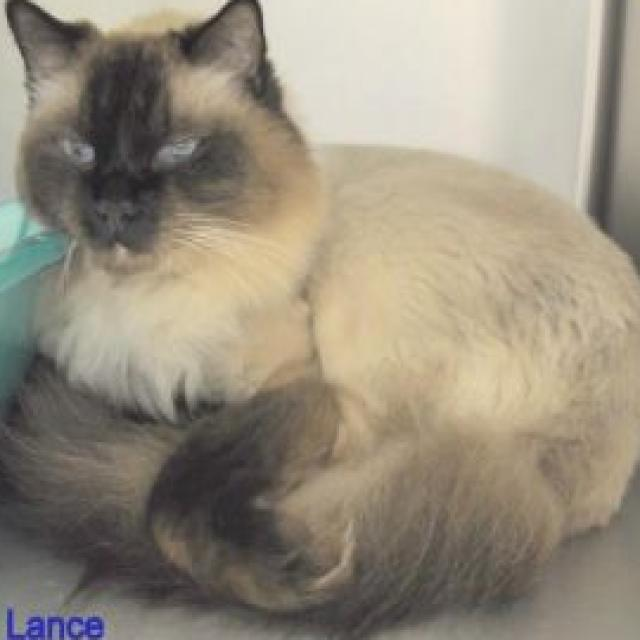Ragdoll: (0, 0, 640, 630)
